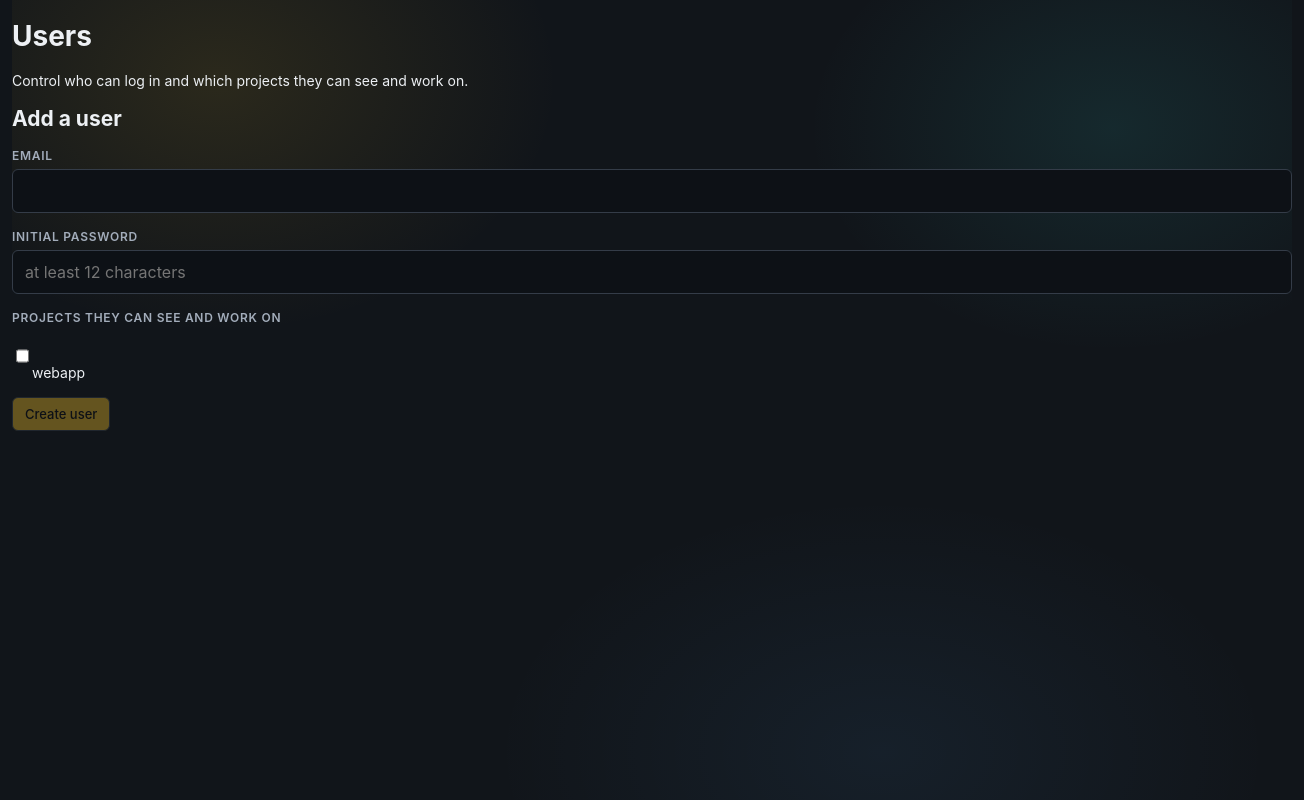
UsersPanel › reports a creation failure rather than a silent no-op
Type "dupe@x.test" into the field labelled "Email". click: [652, 191]
box: top-left (12, 169), bottom-right (1292, 213)
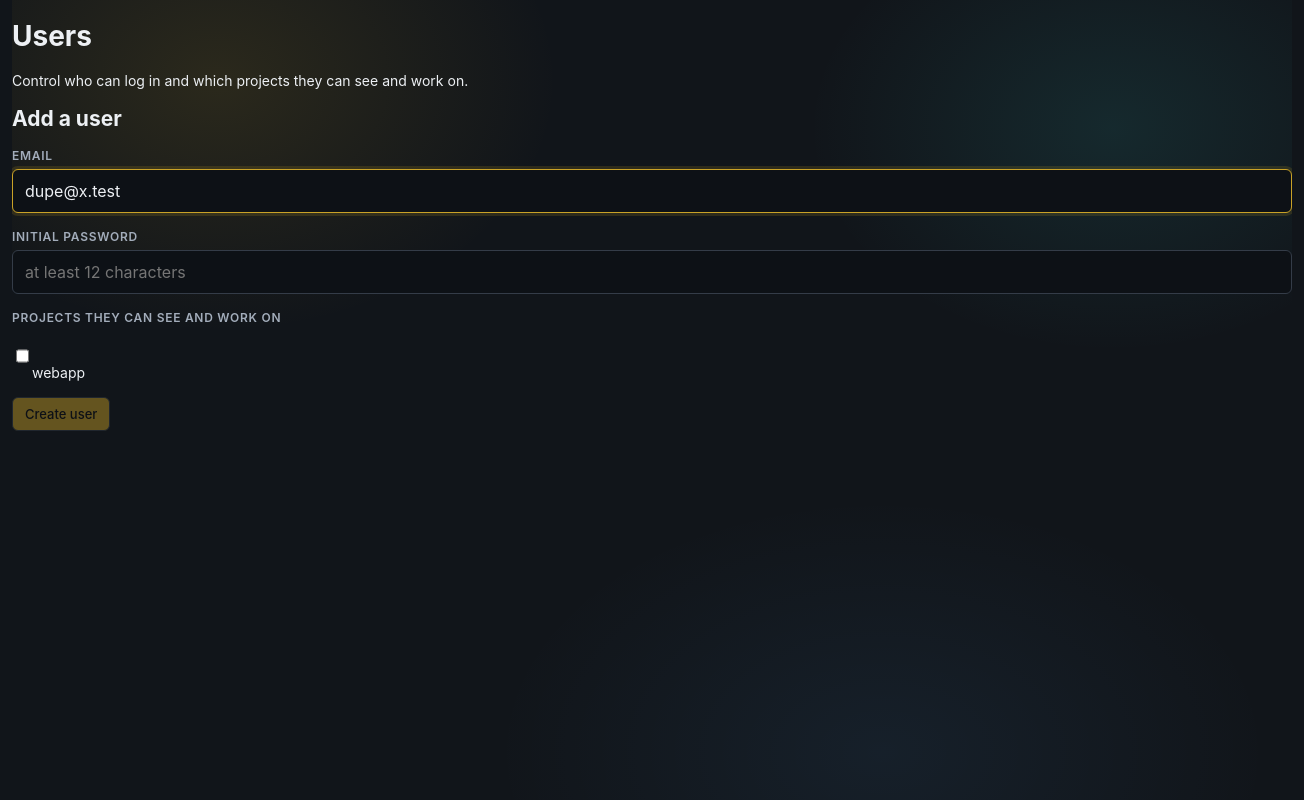
Type "Passw0rdPassw0rd" into the field with placeholder "at least 12 characters". click: [652, 272]
box: top-left (12, 250), bottom-right (1292, 294)
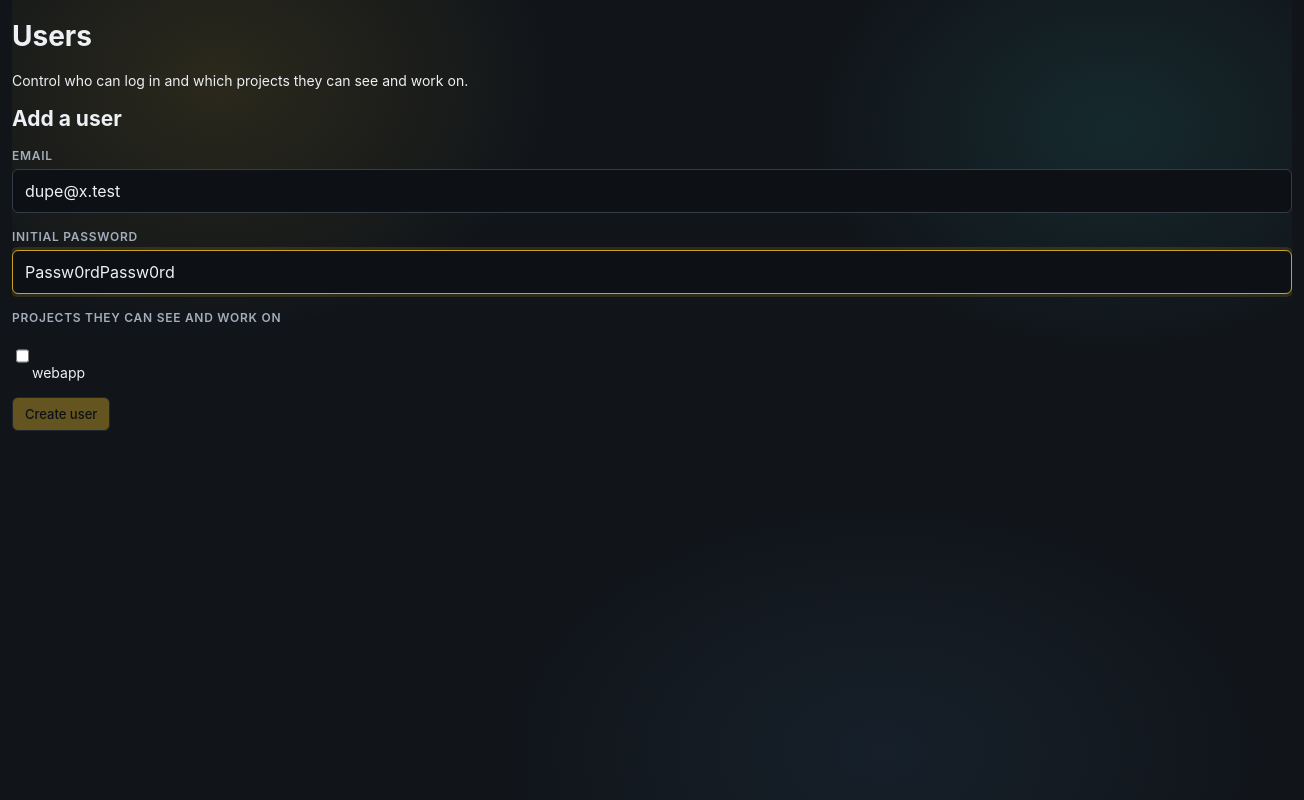
Click the checkbox labelled "webapp". click: [22, 356]
box: top-left (16, 334), bottom-right (29, 378)
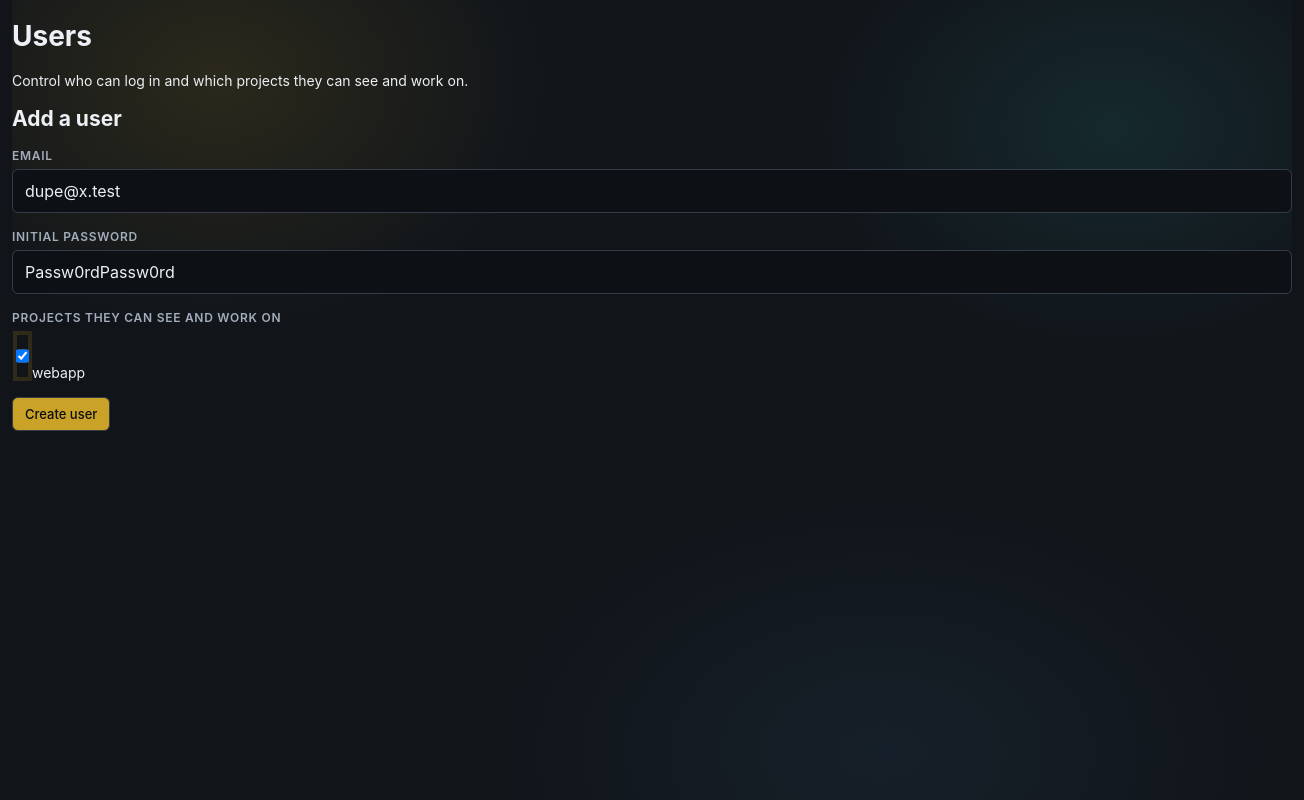
Click the button "Create user". click: [61, 414]
box: top-left (12, 397), bottom-right (110, 431)
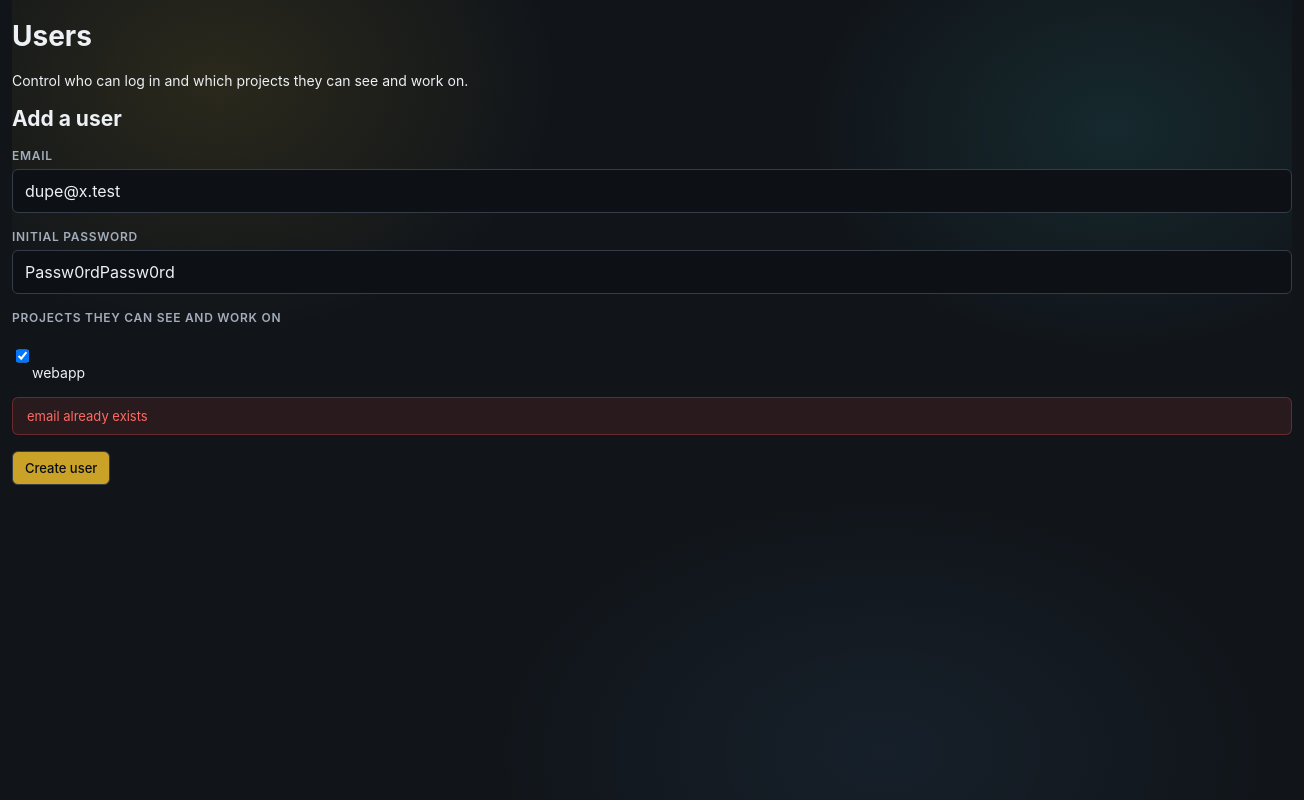
Expected: the text "email already exists" is shown, top-left (12, 397), bottom-right (1292, 435)
